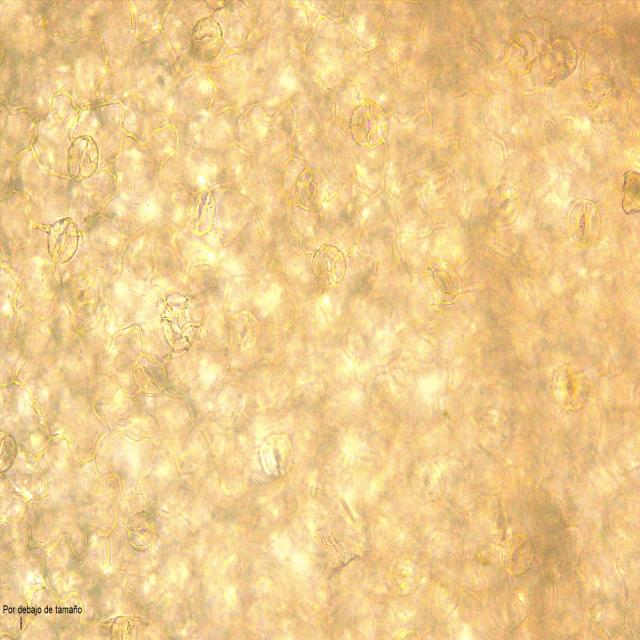Stomata: (472, 403, 516, 458), (548, 359, 592, 414), (501, 24, 543, 80), (255, 431, 300, 481), (566, 195, 604, 252), (307, 242, 350, 291), (423, 257, 464, 307), (130, 350, 172, 398), (406, 453, 446, 503), (188, 13, 227, 64), (349, 99, 388, 149), (583, 74, 621, 125), (184, 182, 217, 240), (44, 215, 82, 264), (64, 132, 101, 182), (295, 165, 329, 216), (497, 533, 537, 576), (543, 34, 579, 81), (228, 306, 262, 352), (126, 508, 160, 554), (487, 181, 521, 225)
